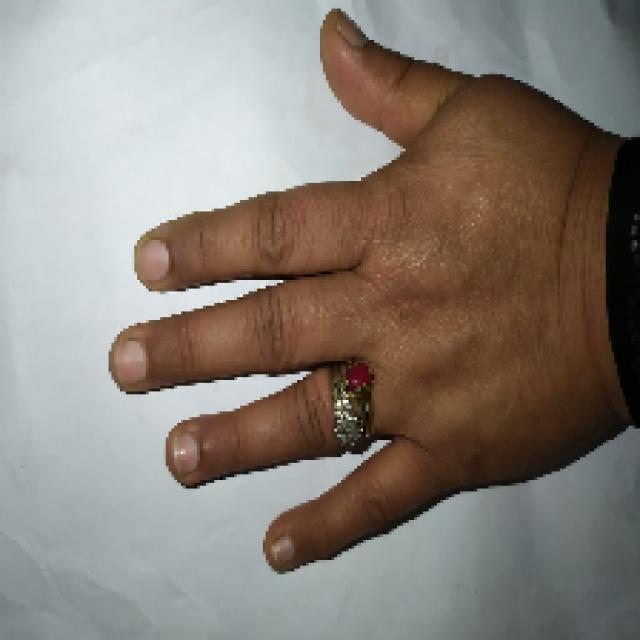Nail: (110, 339, 148, 385), (135, 239, 170, 284), (172, 434, 200, 474), (336, 15, 368, 47), (270, 536, 295, 564)
